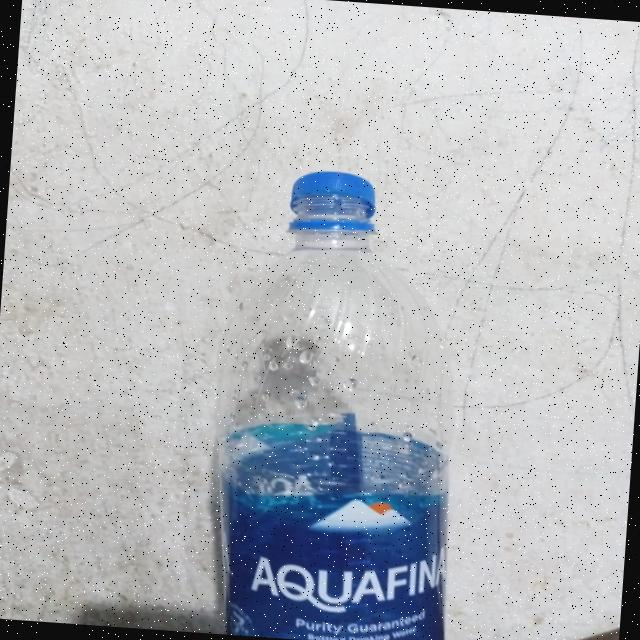bottle: (197, 158, 469, 640)
cap: (272, 165, 398, 252)
label: (201, 468, 450, 640)
